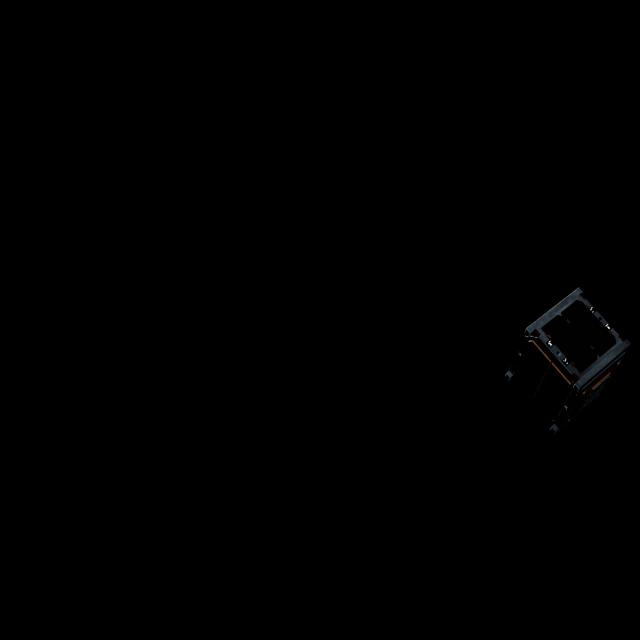satellite: (497, 283, 631, 450)
